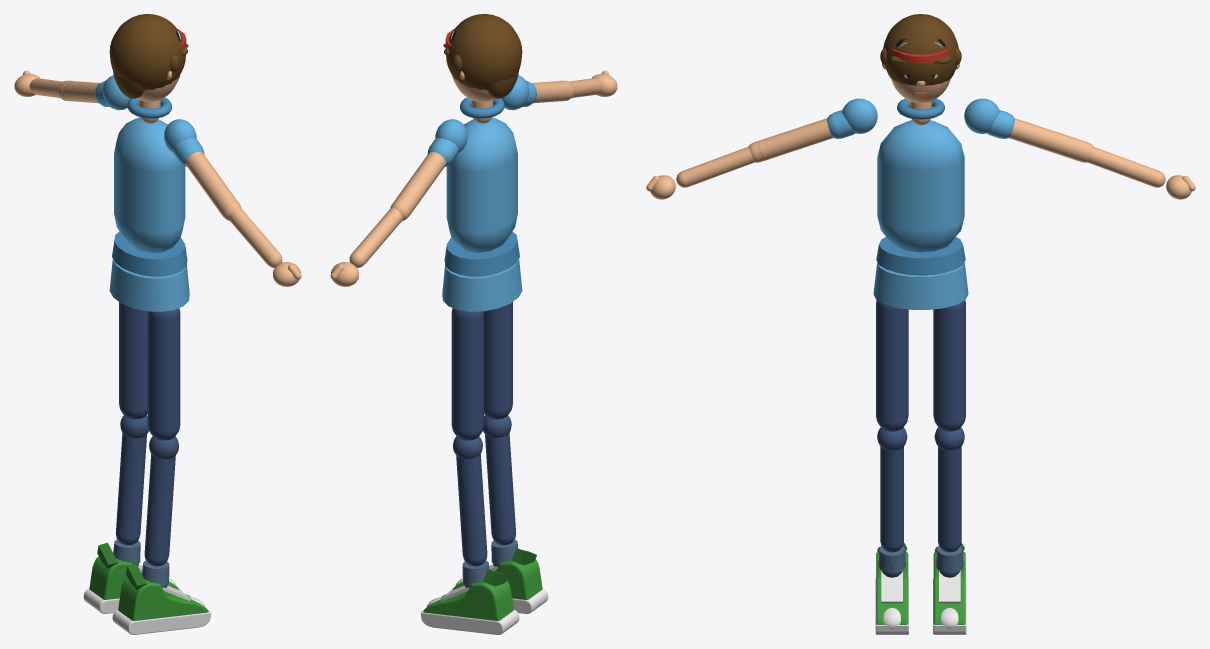
The model's file is jmp2.glb.
The picture shows the model from 3 angles, left to right: view 1: azimuth 30°, elevation 25°; view 2: azimuth 150°, elevation 25°; view 3: azimuth 270°, elevation 25°; orthographic projection.
Bounding box in the file's own units: 0.2478 × 1.71 × 1.41.
